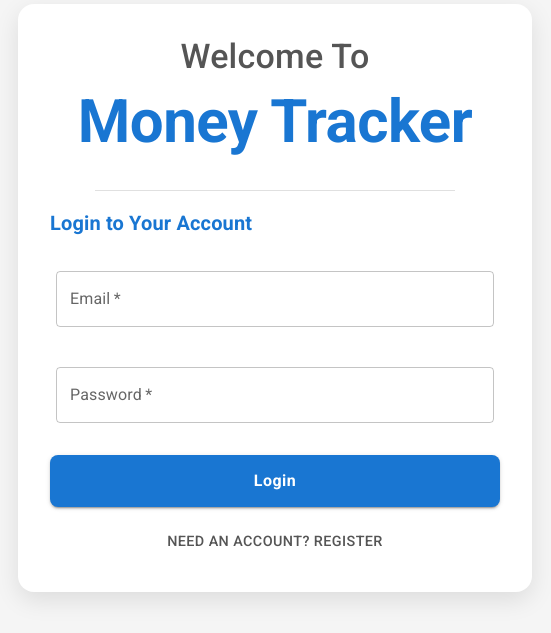
Test: Login Page › shows error on invalid login
Step 1. Type "wrong@b.com" into the field labelled "Email *" → coordinates (275, 299), box [56,271,494,327]
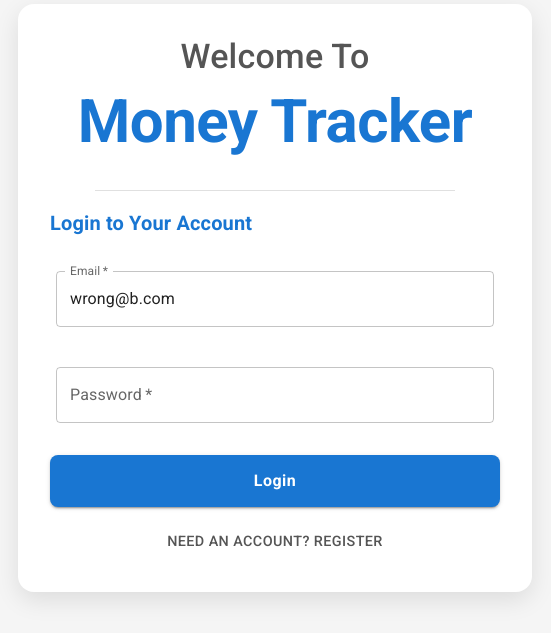
Step 2. Type "wrongpass1!" into the password field labelled "Password *" → coordinates (275, 395), box [56,367,494,423]
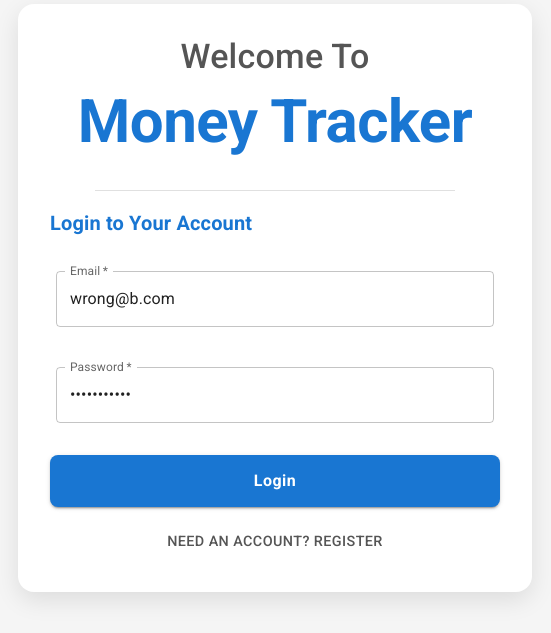
Step 3. Click the button "Login" → coordinates (275, 481), box [50,455,500,507]
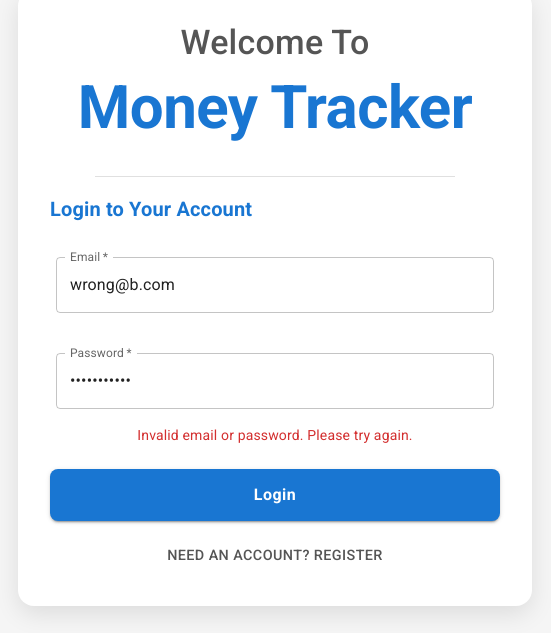
Check: the text "Invalid email or password. Please try again." is shown, box [137,425,413,445]
